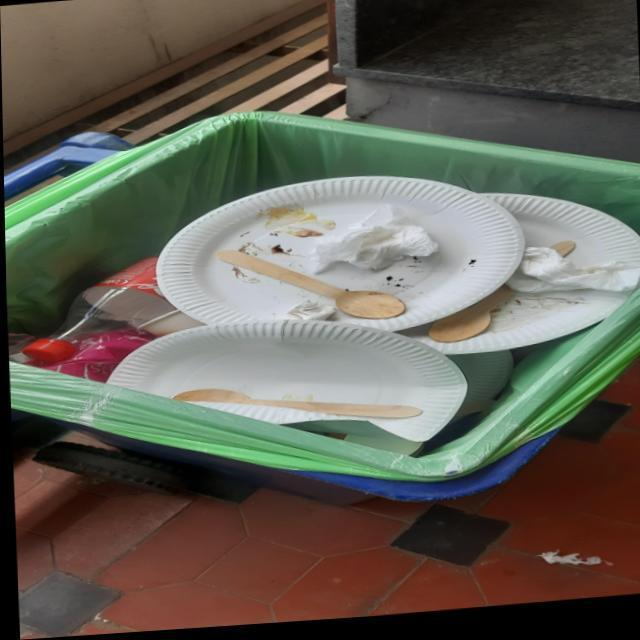Disposable: (155, 180, 524, 336), (105, 323, 464, 447), (397, 296, 631, 361), (479, 199, 640, 274)
Garbage: (6, 180, 640, 460)
Plastic_bottle: (19, 259, 176, 363)
Plastic_wraper: (32, 332, 155, 383)
